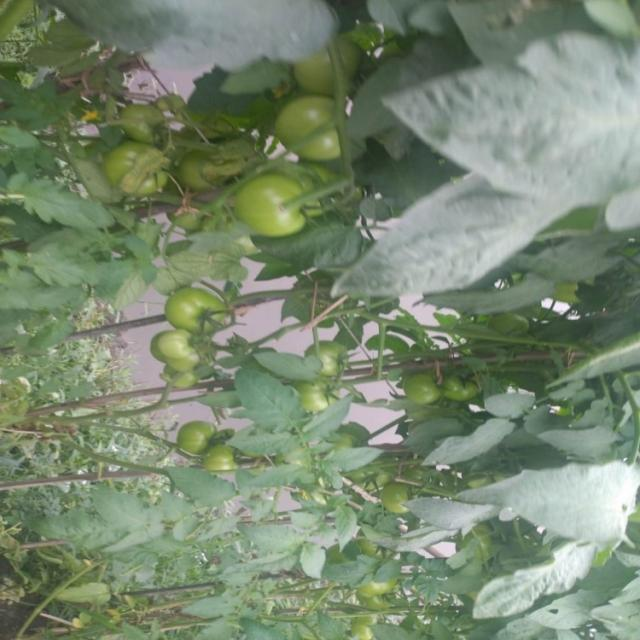tomato: (228, 174, 324, 259), (257, 89, 352, 170), (93, 144, 163, 226), (163, 288, 244, 352), (283, 34, 354, 92), (146, 324, 218, 366), (301, 335, 351, 394), (289, 388, 336, 429), (163, 369, 215, 406), (442, 365, 484, 407), (172, 147, 207, 196), (172, 417, 208, 464), (399, 362, 431, 413), (390, 476, 418, 531), (363, 574, 396, 606), (119, 96, 146, 127), (204, 446, 231, 475), (356, 613, 381, 636)
